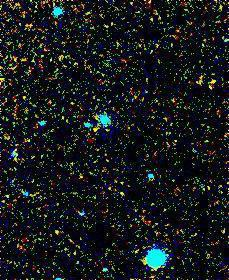star: (81, 115, 111, 145)
